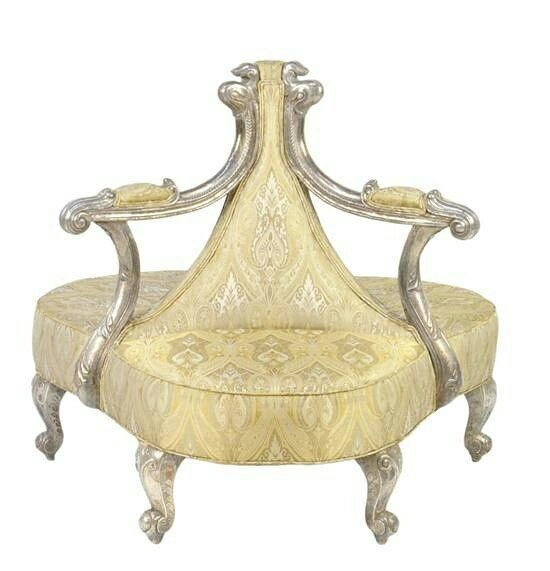Carving Chair: (56, 62, 508, 540)
